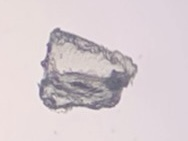microplastic: (38, 26, 140, 116)
